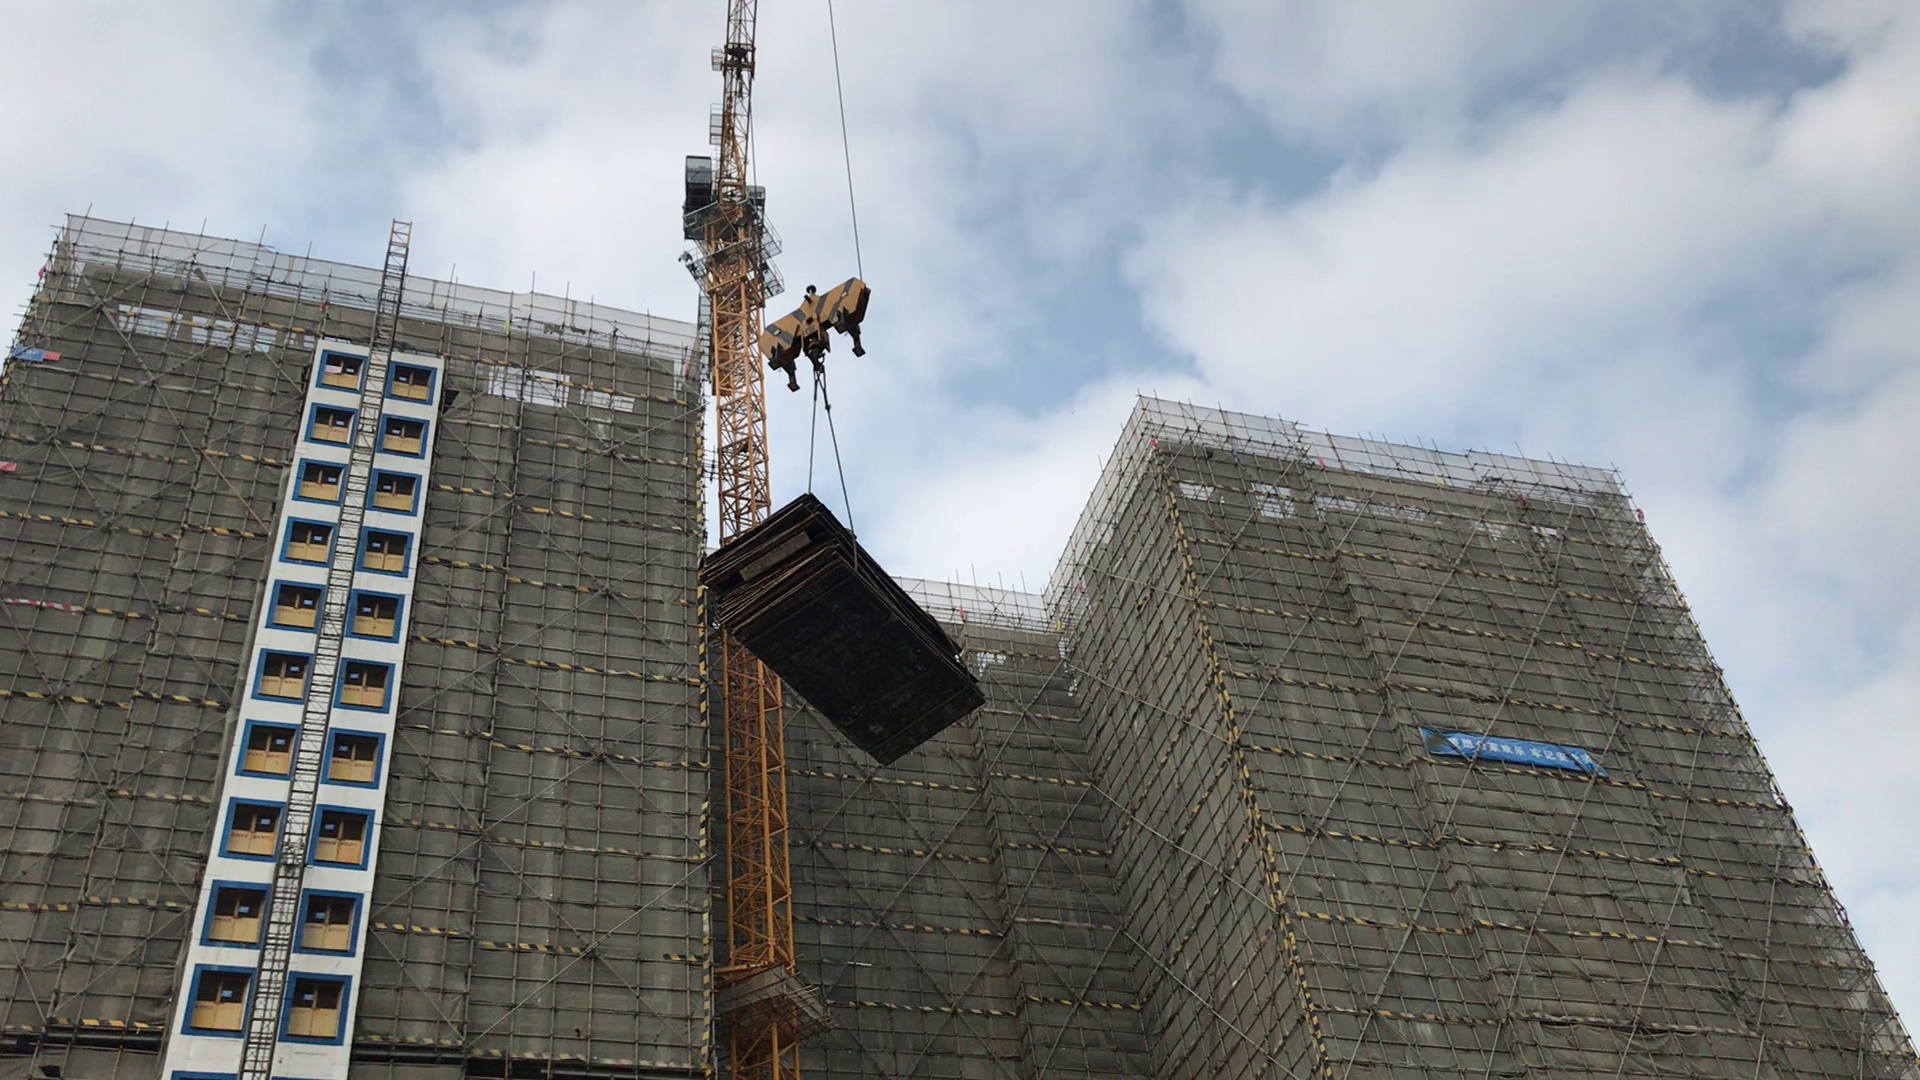board: (692, 491, 992, 766)
hook: (760, 278, 868, 392)
slogan: (1422, 724, 1605, 775)
